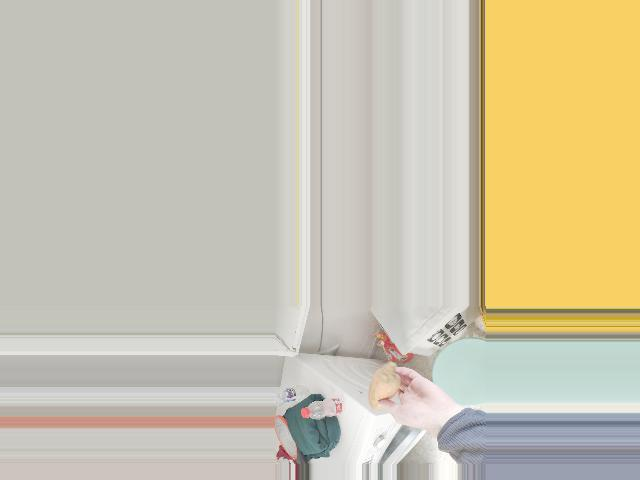sweet_potato: (368, 367, 404, 408)
